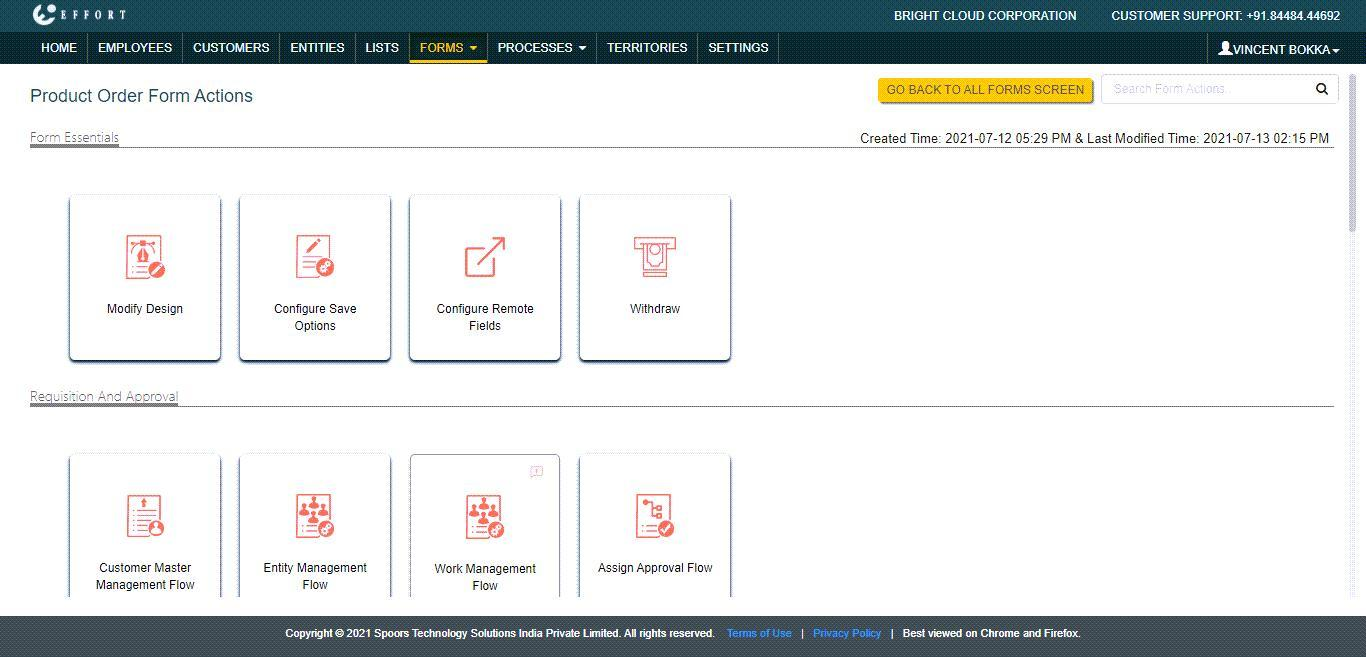button: (879, 78, 1094, 104)
dropdown: (1208, 33, 1366, 65), (489, 33, 598, 64), (410, 34, 488, 65)
icon: (627, 487, 679, 549), (120, 229, 172, 288), (630, 230, 681, 286), (292, 488, 339, 547), (463, 489, 509, 549), (291, 228, 340, 284), (461, 232, 511, 286), (122, 491, 171, 544)
input: (1104, 76, 1340, 104)
label: (191, 40, 272, 56), (96, 41, 176, 56), (606, 42, 689, 56), (706, 41, 774, 56), (288, 42, 347, 55), (42, 41, 80, 57), (364, 41, 402, 56)
